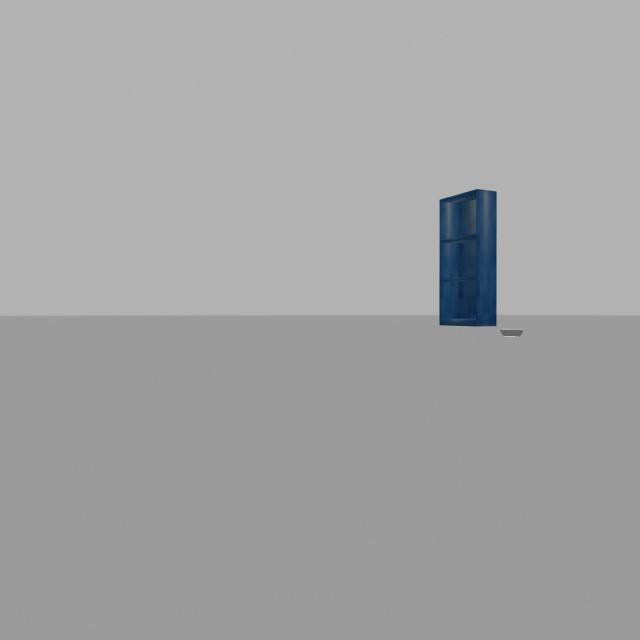bowl: (497, 323, 529, 340)
shelf: (436, 173, 498, 333)
